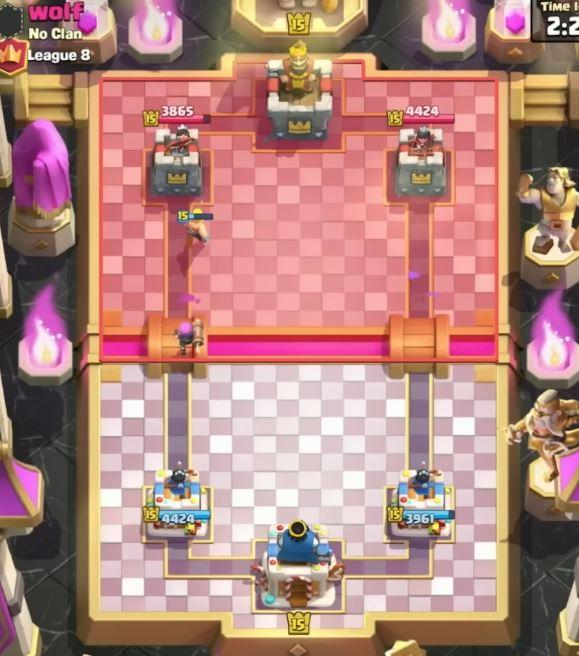EKingTower: (267, 44, 332, 140)
EnemyPrincessTower: (388, 124, 449, 198), (146, 124, 203, 197)
OBarb: (177, 208, 213, 244)
OFirecrack: (176, 317, 206, 356)
OwnKingTower: (259, 520, 342, 608), (143, 463, 210, 536), (387, 468, 453, 538)
